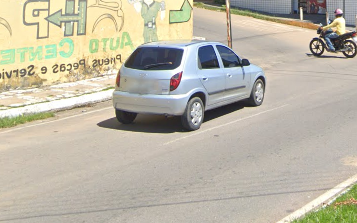car: (110, 36, 273, 133)
